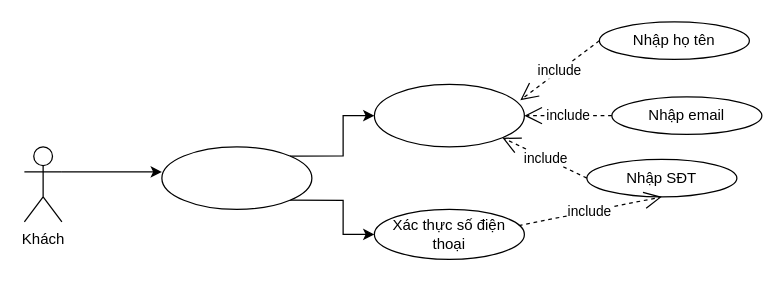
Some shapes in this 784 by 281 pixel diagram are drawn without their labels. The box of each missing label's shape, as (x1, y1, x2, y2) in pixels:
Nhập thông tin: (373, 83, 524, 147)
Đăng kí: (161, 146, 312, 209)
